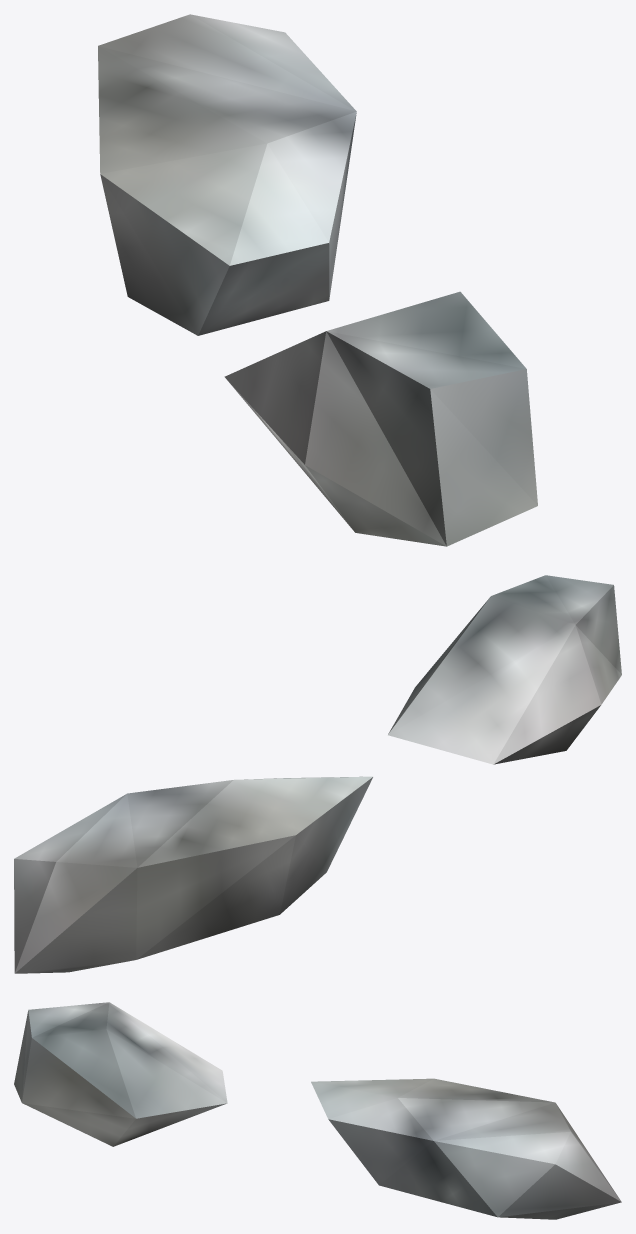
The picture shows the model from 3 angles, top to bottom: view 1: azimuth 30°, elevation 25°; view 2: azimuth 150°, elevation 25°; view 3: azimuth 270°, elevation 25°; orthographic projection. The views are drawn at different scales.
Size of the model in its own units: 0.0827 by 0.0519 by 0.1988.
1 material, 1 textured.
